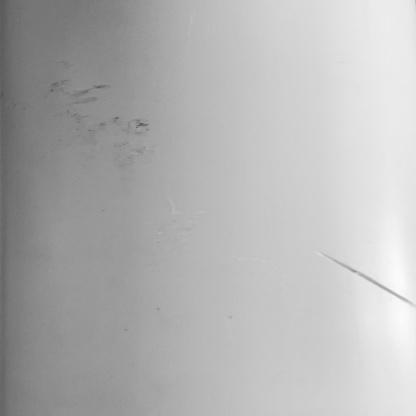sunshang: (325, 258, 415, 305)
